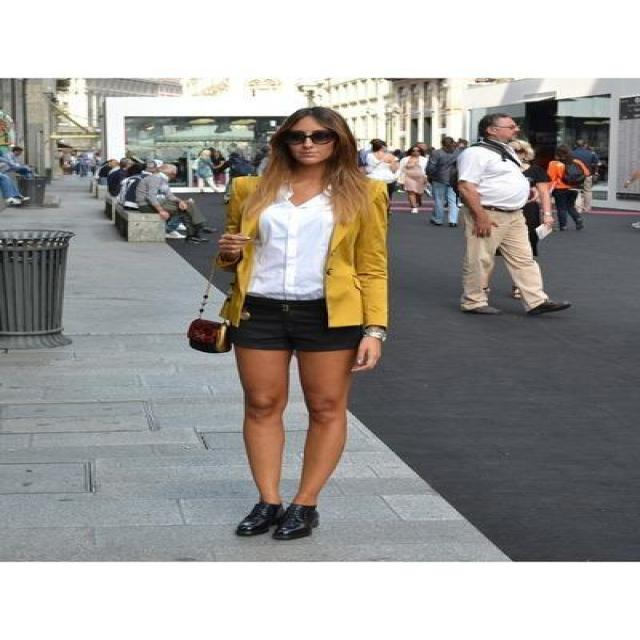bag: (187, 320, 227, 352)
jacket: (211, 171, 387, 321)
shirt: (250, 192, 332, 293)
shoe: (235, 499, 317, 540)
shorts: (224, 294, 365, 362)
